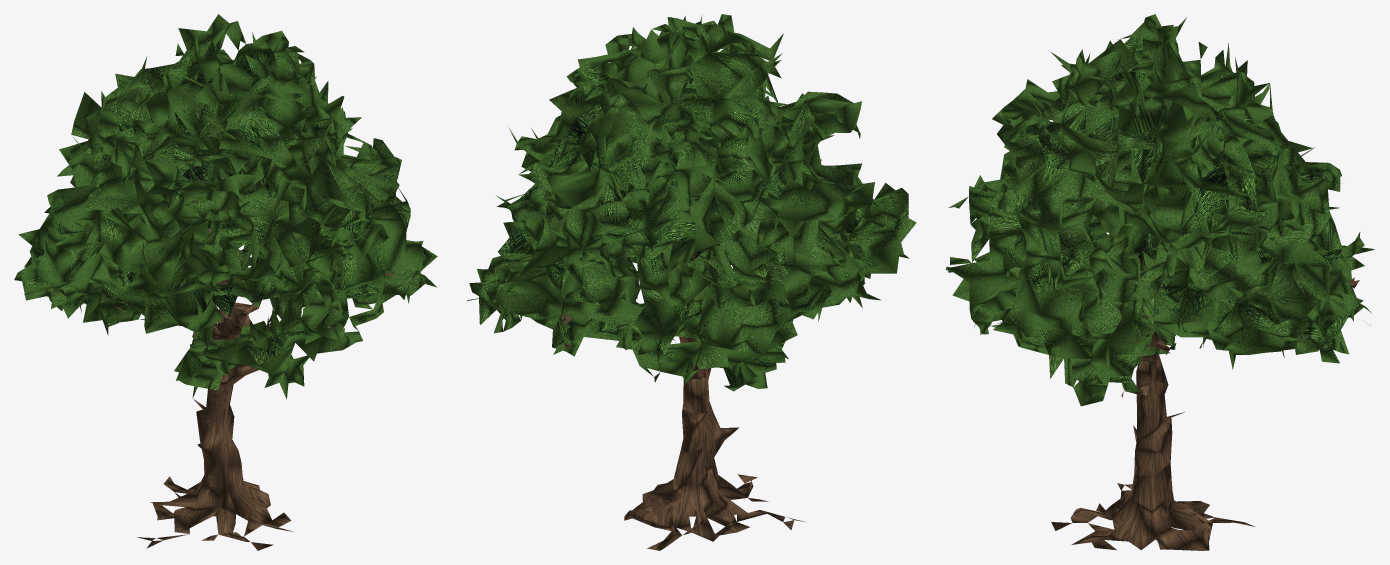
The model's file is arvore_ra.glb.
3 renders of one model, left to right at view 1: azimuth 30°, elevation 25°; view 2: azimuth 150°, elevation 25°; view 3: azimuth 270°, elevation 25°, orthographic. The views are drawn at different scales.
Parts seen in each view (by area): view 1: mesh_node; view 2: mesh_node; view 3: mesh_node.
Part boxes in pixels (x1,y1,x2,y2): mesh_node: (14, 14, 437, 550); mesh_node: (466, 14, 916, 550); mesh_node: (945, 14, 1374, 550).
Size of the model in its own units: 1.52 by 1.89 by 1.44.
2 materials, 2 textured.
